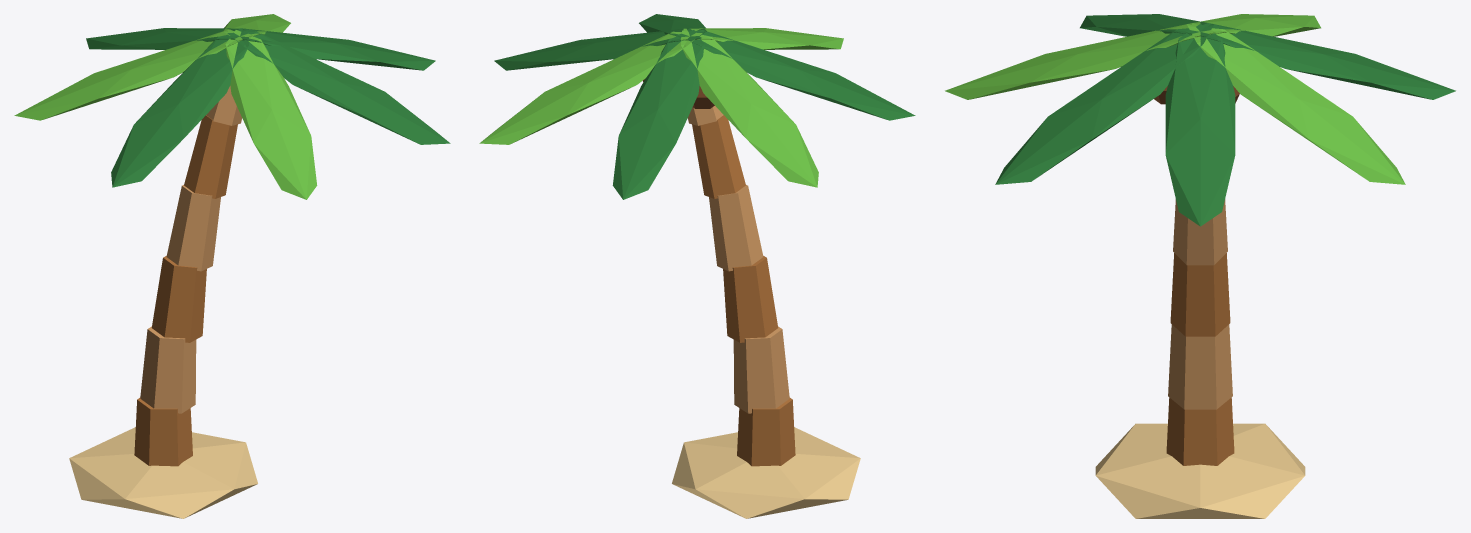
Rendered from PalmTree.fbx.
The picture shows the model from 3 angles, left to right: view 1: azimuth 30°, elevation 25°; view 2: azimuth 150°, elevation 25°; view 3: azimuth 270°, elevation 25°; orthographic projection. The views are drawn at different scales.
Visible parts, largest first — view 1: Palm Tree; view 2: Palm Tree; view 3: Palm Tree.
Boxes of the visible parts, x1,y1,x2,y2 form: Palm Tree: (14,14,450,518); Palm Tree: (479,14,915,518); Palm Tree: (945,14,1455,518).
Size of the model in its own units: 7.29 by 8.16 by 7.48.
Materials: 1 (1 with a texture image).
